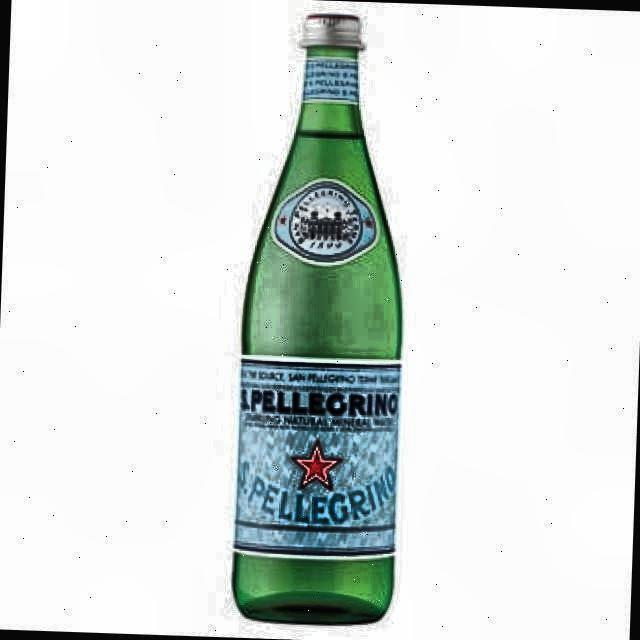glass: (231, 8, 405, 628)
